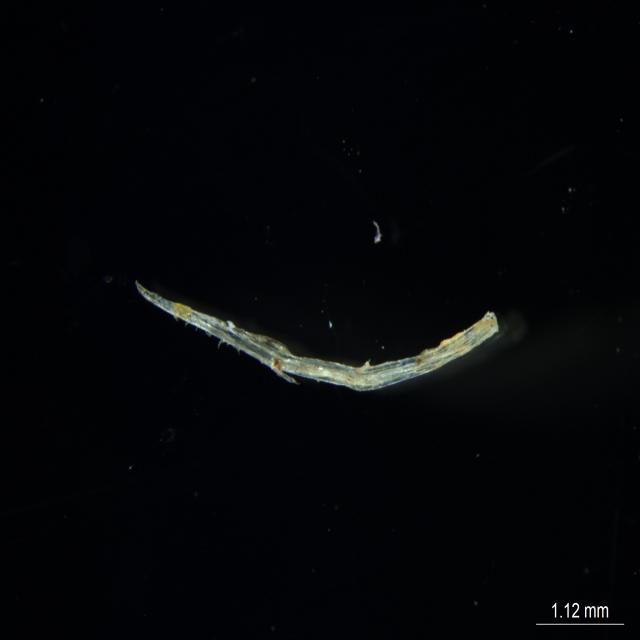fibers: (128, 281, 502, 402)
